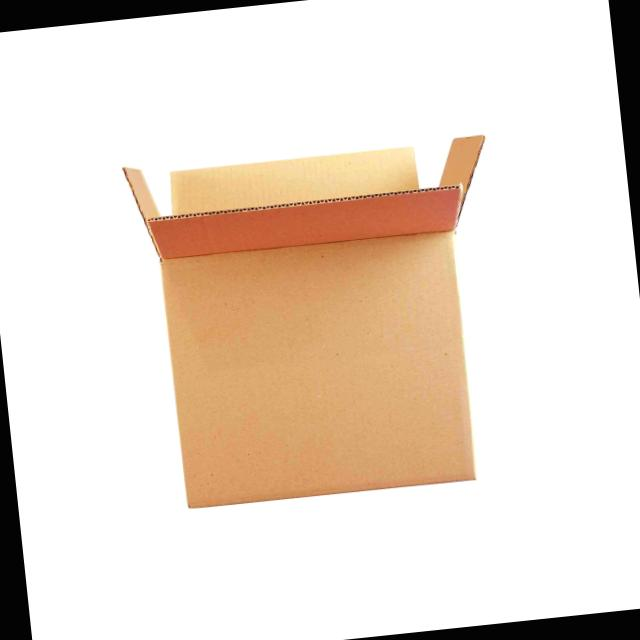Garbage: (114, 128, 524, 520)
